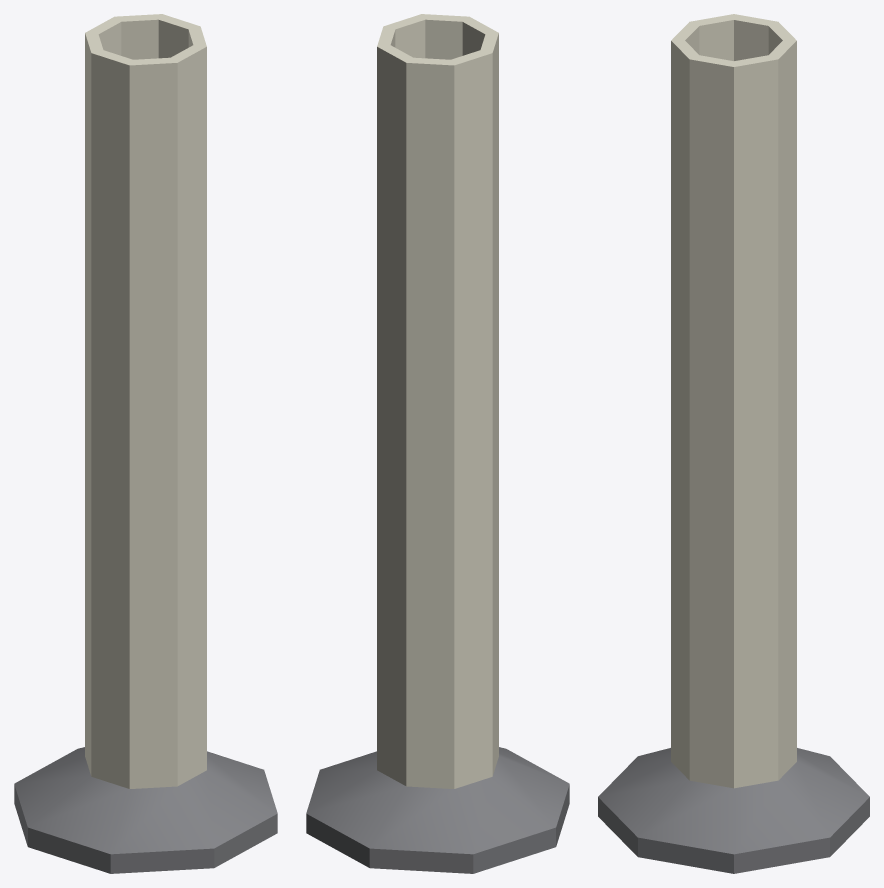
Rendered from graduated-cylinder.fbx.
3 views of the same model, side by side, from view 1: azimuth 30°, elevation 25°; view 2: azimuth 150°, elevation 25°; view 3: azimuth 270°, elevation 25° (orthographic).
Visible parts, largest first — view 1: graduated_cylinder; view 2: graduated_cylinder; view 3: graduated_cylinder.
Part boxes in pixels (<box>): graduated_cylinder: <box>14,14,277,873</box>; graduated_cylinder: <box>306,14,569,873</box>; graduated_cylinder: <box>598,14,869,873</box>.
Size of the model in its own units: 12.5 by 39.36 by 12.5.
